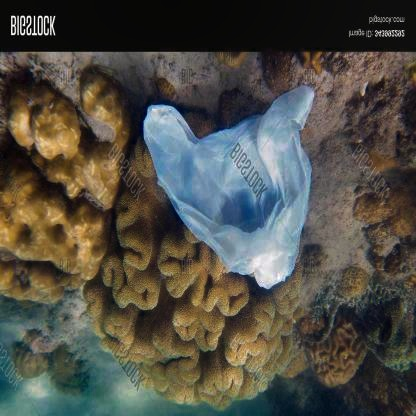pbag: (142, 84, 315, 290)
